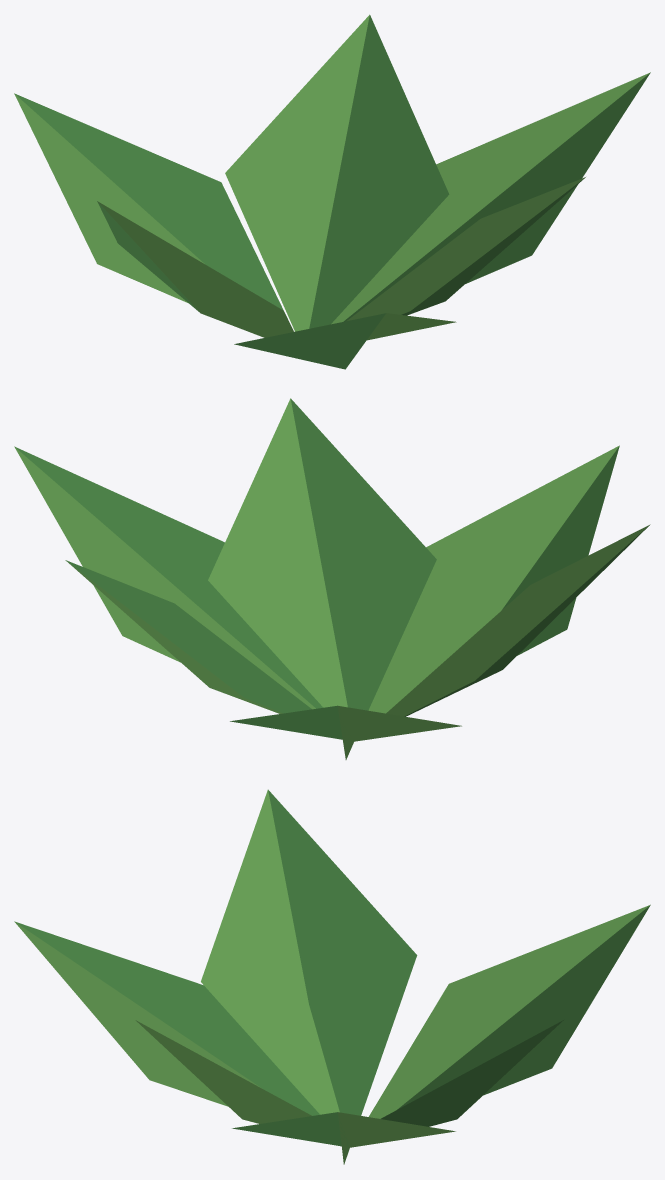
Rendered from decor_shrub.glb.
The picture shows the model from 3 angles, top to bottom: view 1: azimuth 30°, elevation 25°; view 2: azimuth 150°, elevation 25°; view 3: azimuth 270°, elevation 25°; orthographic projection. The views are drawn at different scales.
Visible parts, largest first — view 1: decor_shrub; view 2: decor_shrub; view 3: decor_shrub.
Part boxes in pixels (x1,y1,x2,y2): decor_shrub: (14, 14, 650, 369); decor_shrub: (14, 398, 650, 759); decor_shrub: (14, 789, 650, 1164).
Bounding box in the file's own units: 0.5922 × 0.234 × 0.565.
